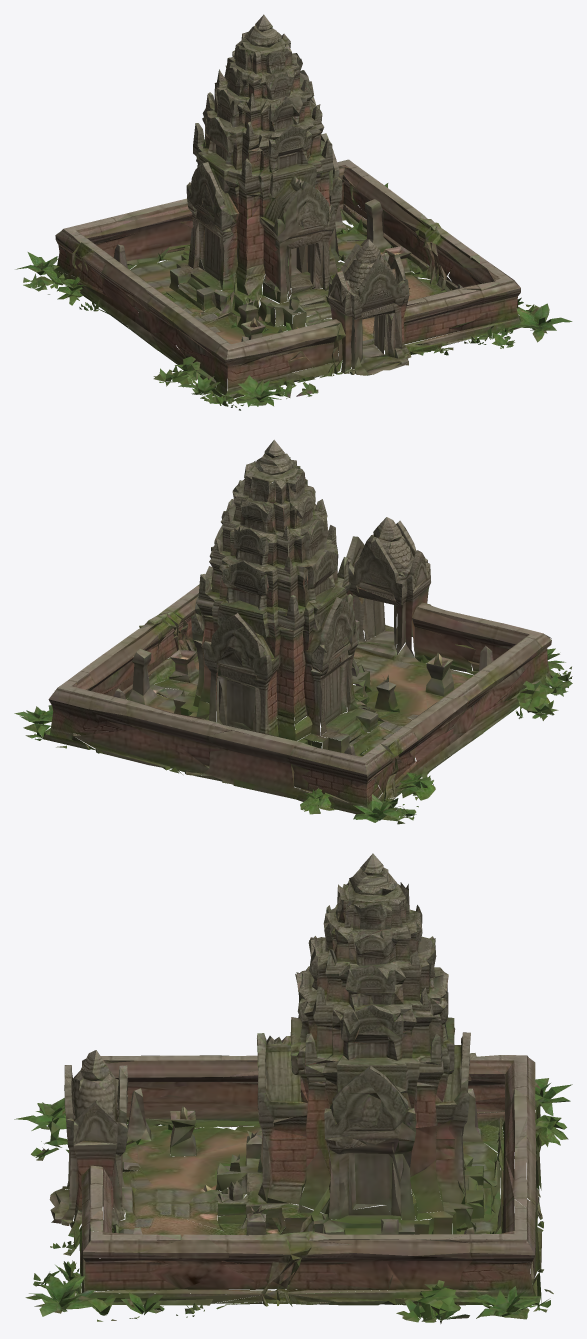
The model's file is arogyasala.glb.
3 renders of one model, top to bottom at view 1: azimuth 30°, elevation 25°; view 2: azimuth 150°, elevation 25°; view 3: azimuth 270°, elevation 25°, orthographic. The views are drawn at different scales.
Visible parts, largest first — view 1: output_unwrapped; view 2: output_unwrapped; view 3: output_unwrapped.
Boxes of the visible parts, <box> form: output_unwrapped: <box>15,14,572,410</box>; output_unwrapped: <box>14,439,572,824</box>; output_unwrapped: <box>14,853,572,1323</box>.
Bounding box in the file's own units: 18 × 12.56 × 17.82.
Materials: 1 (1 with a texture image).
